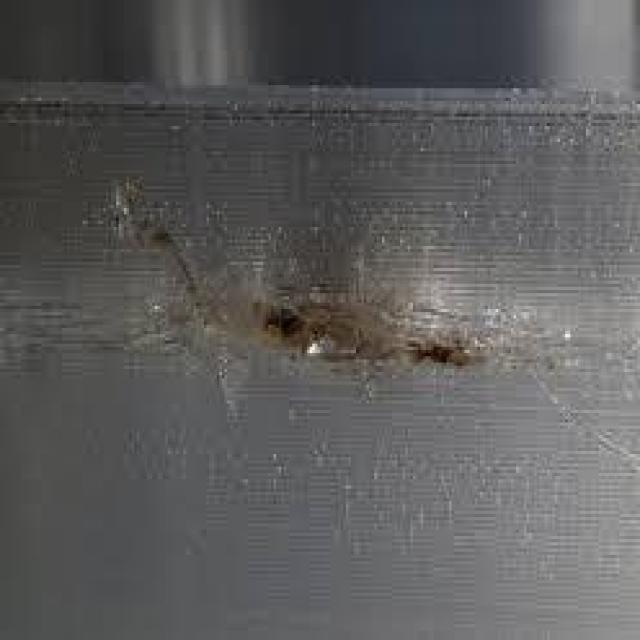spaghetti: (44, 139, 568, 401)
